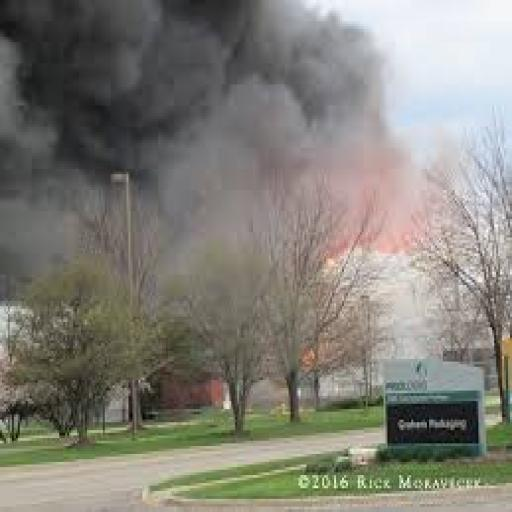smoke: (2, 3, 391, 211)
